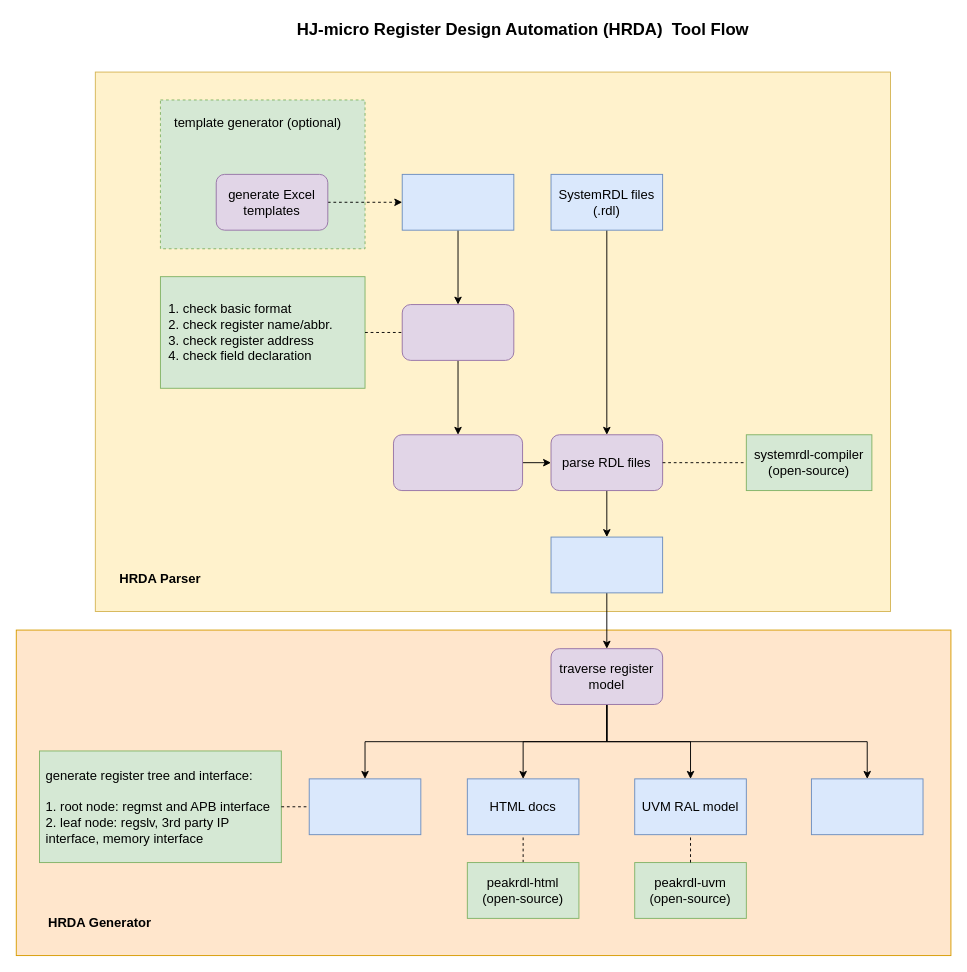
Image size: 967x972. Some labels were removed from this diagram. The shapes that lost their labels are listed below. From the top down, each one's centre as x and y in pixels, then its label:
At (x=457, y=201): "Excel worksheets (.xlsx)".
At (x=457, y=332): "parse Excel worksheets".
At (x=458, y=462): "generate RDL files".
At (x=606, y=564): "hierarchical register model".
At (x=364, y=806): "RTL modules".
At (x=866, y=806): "C Header files".
